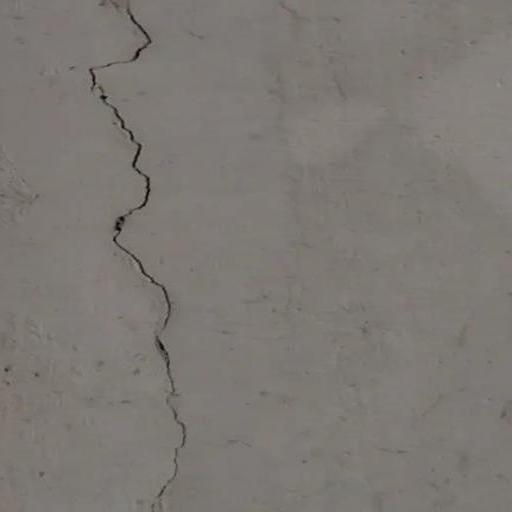major_crack: (80, 0, 198, 512)
